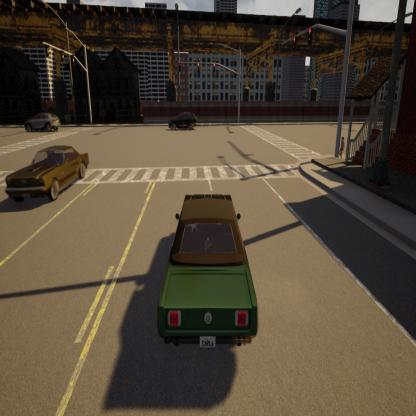Cars: (156, 184, 265, 357), (0, 145, 94, 202), (20, 109, 62, 135), (164, 109, 199, 130)
Pedestrian: (339, 132, 345, 162)
